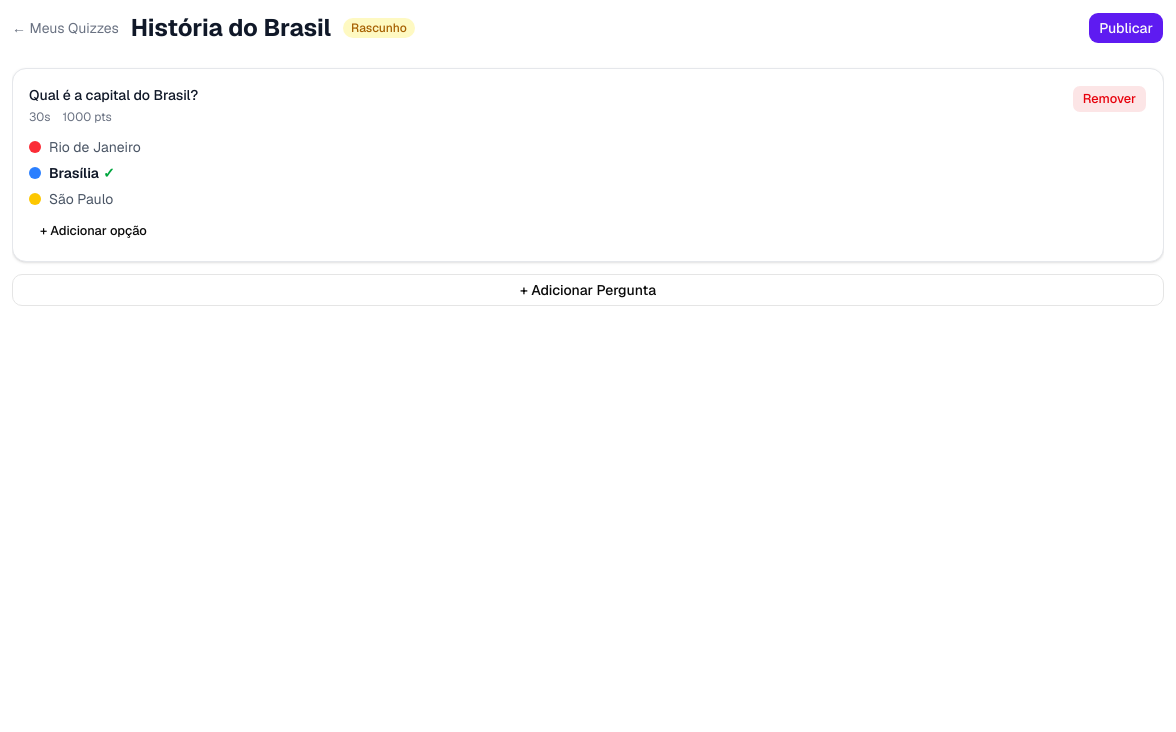
Test: QuizEditorPage › when add question is clicked › should show QuestionForm
Click the button with test id "btn-add-question" at point(588, 290), box x1=12 y1=274 x2=1164 y2=306
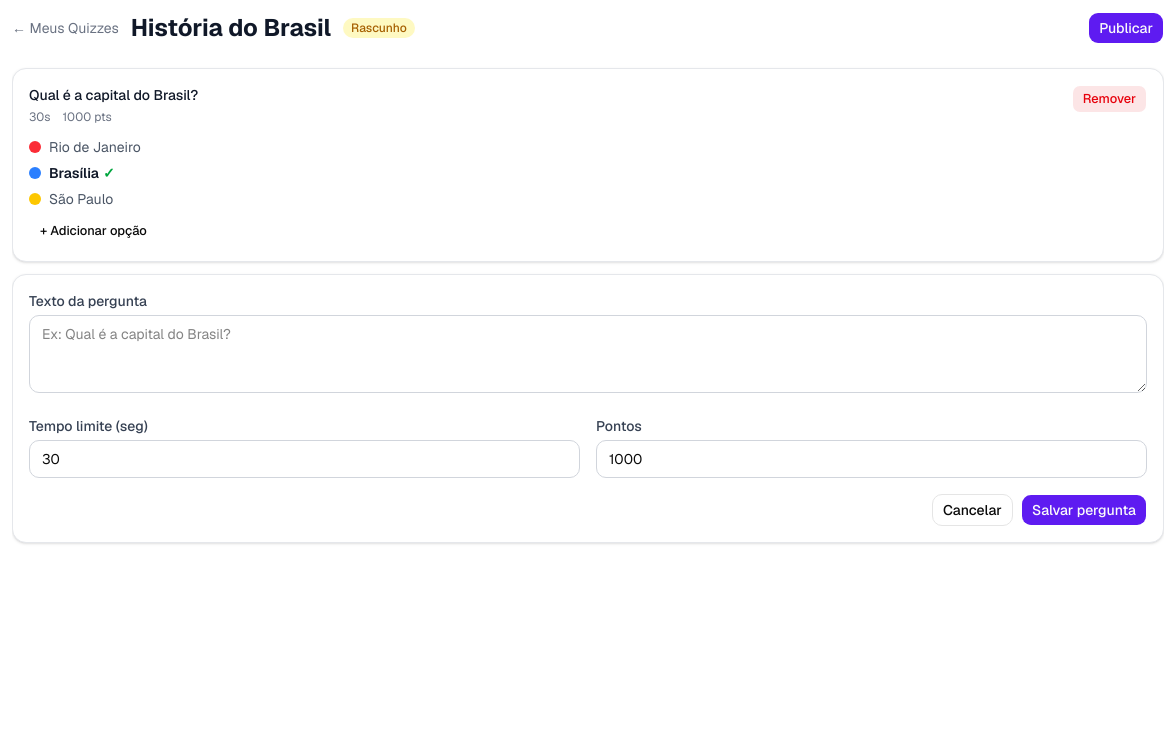
Expected: the button with test id "btn-submit-question" is shown, x1=1021 y1=494 x2=1147 y2=526
